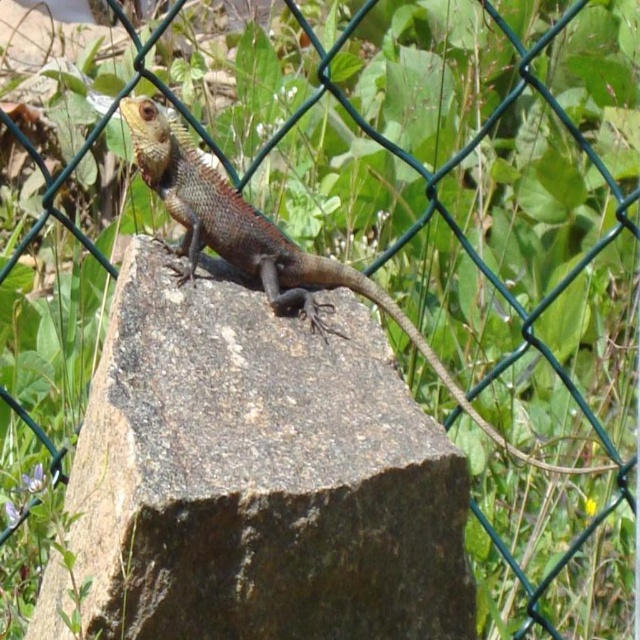Lizard: (119, 92, 617, 465)
